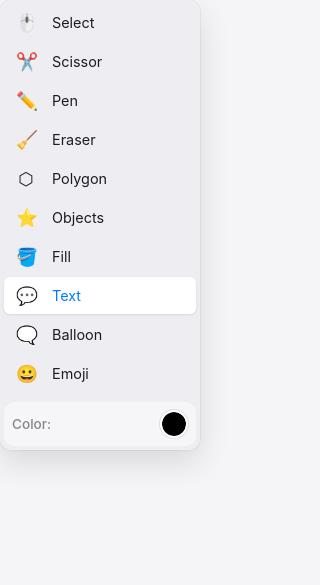
Test case: Toolbar › shows font controls when text tool is active
// Click text button to show submenu
Step 1. Click the button "💬 Text" → (100, 296), box [4,277,196,314]
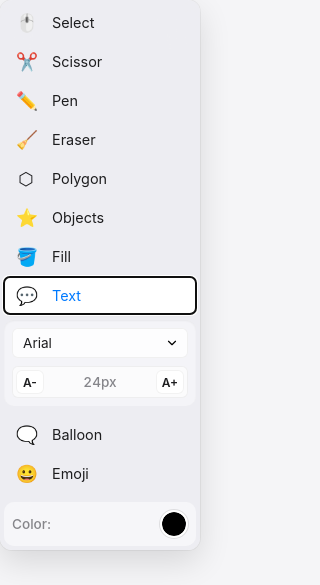
Expected: the dropdown titled "Select font" is shown, [12,328,188,358]
Expected: the button titled "Decrease size" is shown, [16,370,44,394]
Expected: the button titled "Increase size" is shown, [156,370,184,394]
